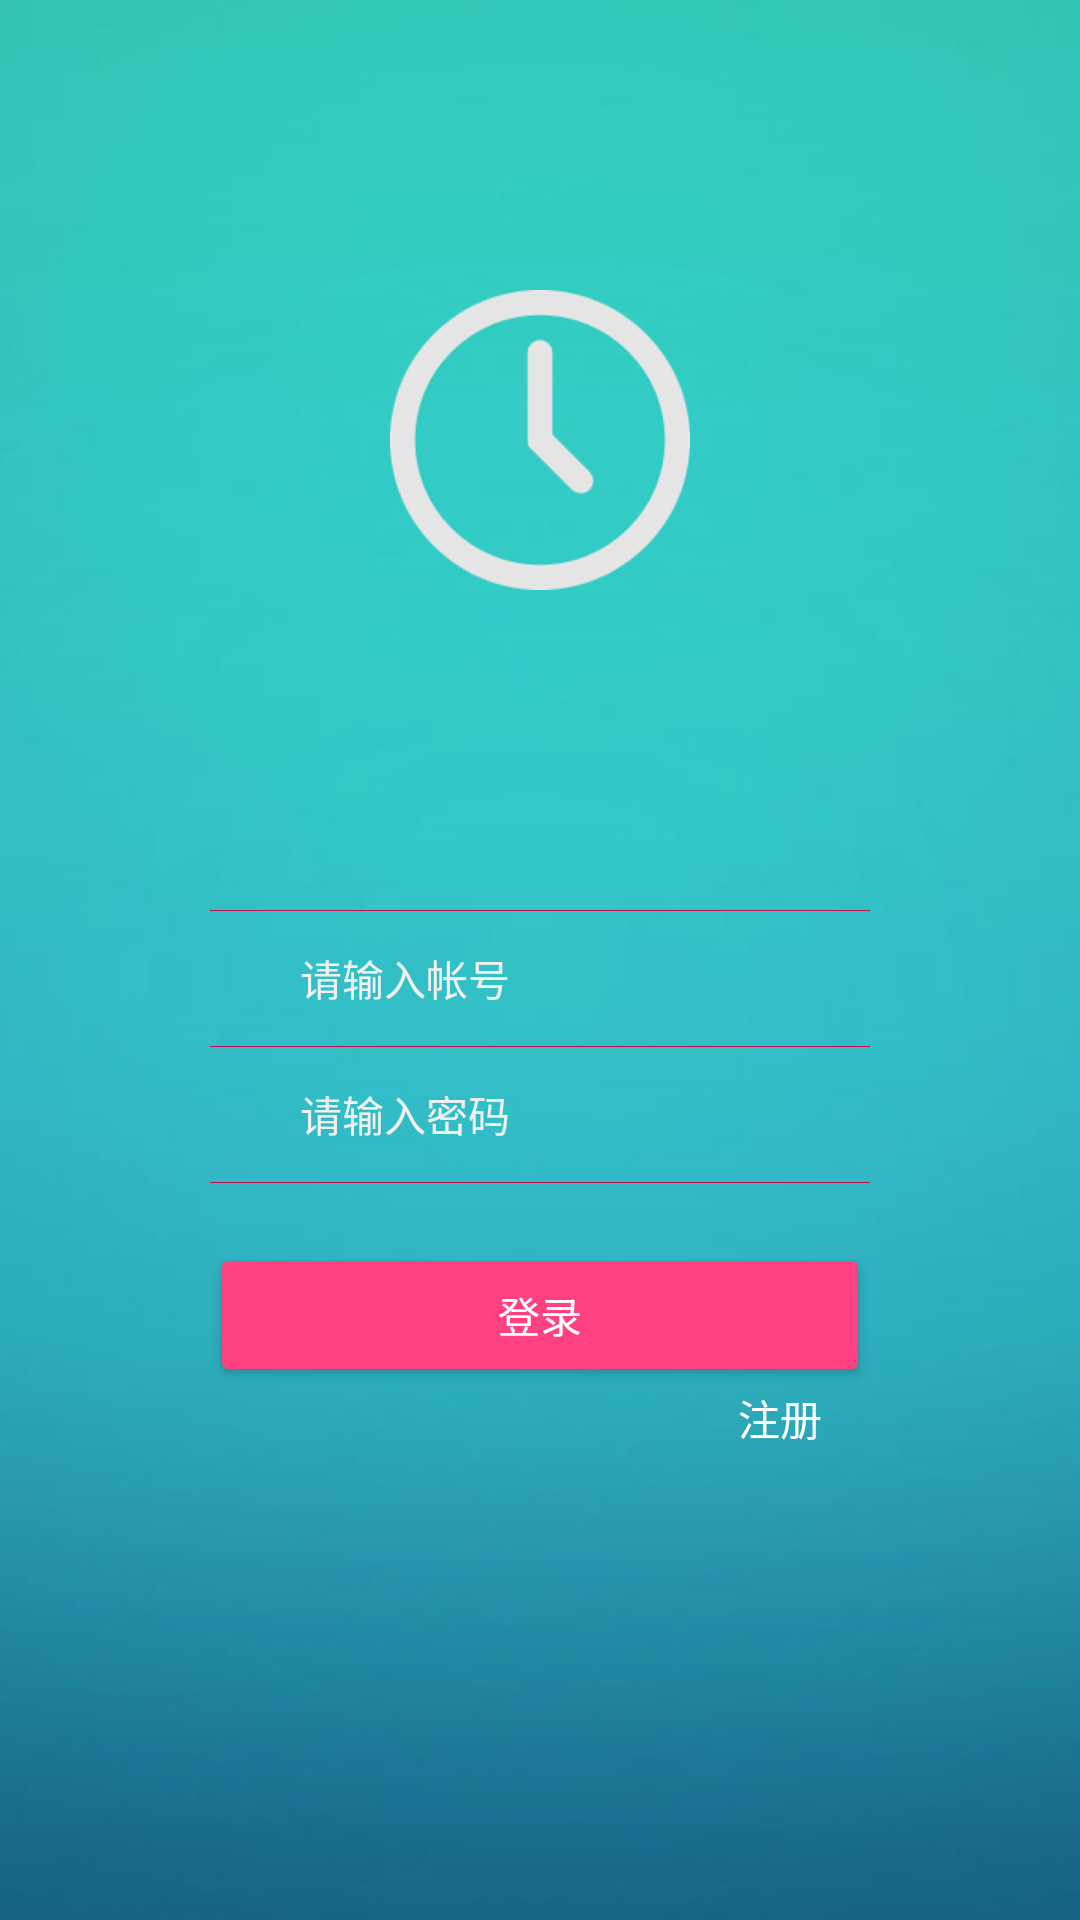

Named icons in this screenshot (1080px×1920px) and their centers, (x=x, y=y):
clock: (x=540, y=440)
